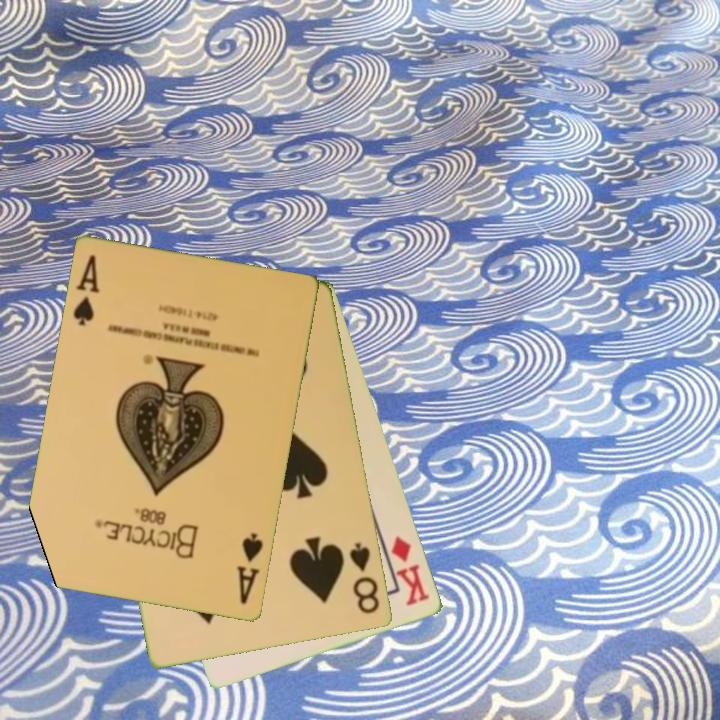8s: (346, 539, 383, 617)
As: (70, 251, 103, 330), (233, 530, 266, 608)
Kd: (388, 533, 433, 609)
